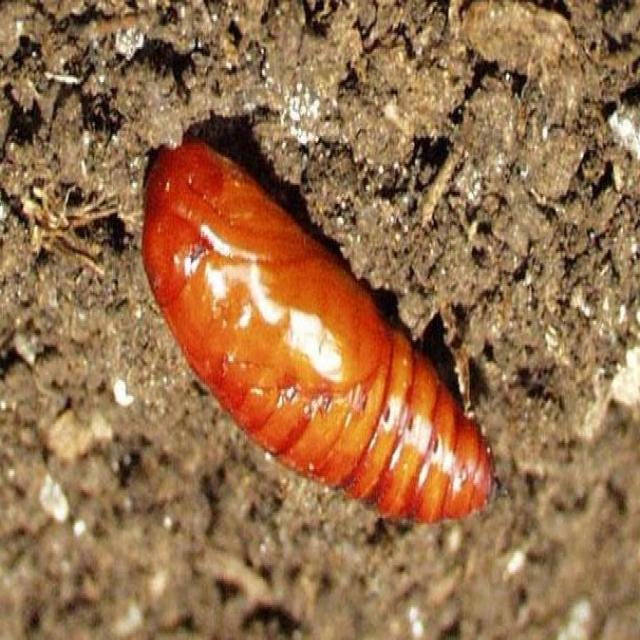black cutworm: (130, 140, 501, 532)
